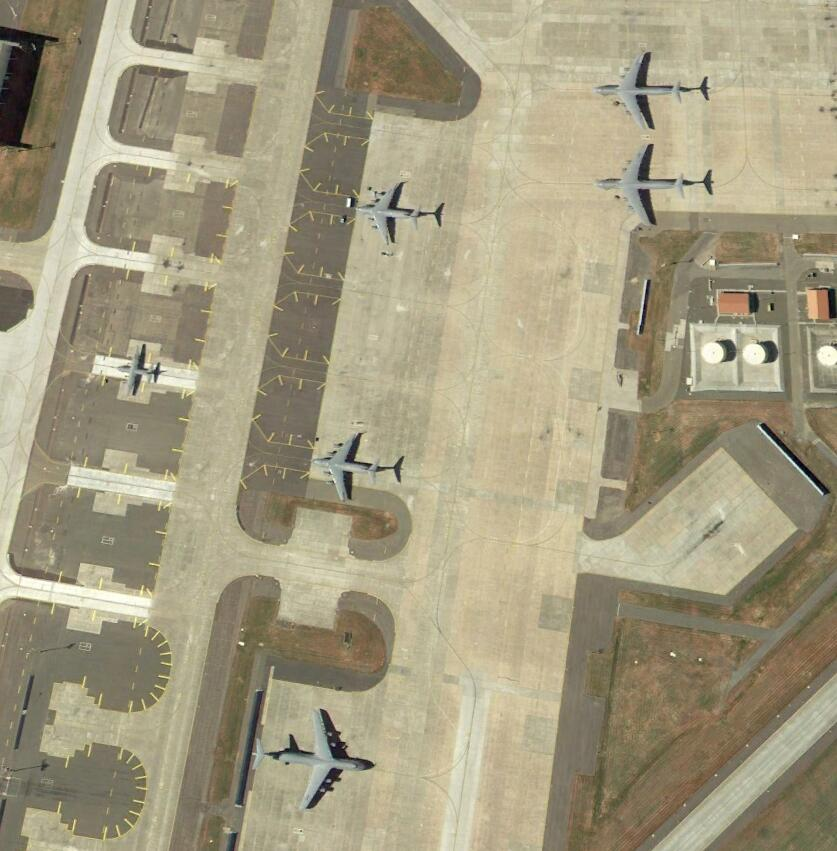A2: (118, 348, 165, 397)
A3: (315, 434, 383, 501), (356, 182, 424, 248)
A4: (253, 704, 372, 816), (598, 143, 693, 225), (594, 53, 688, 133)
